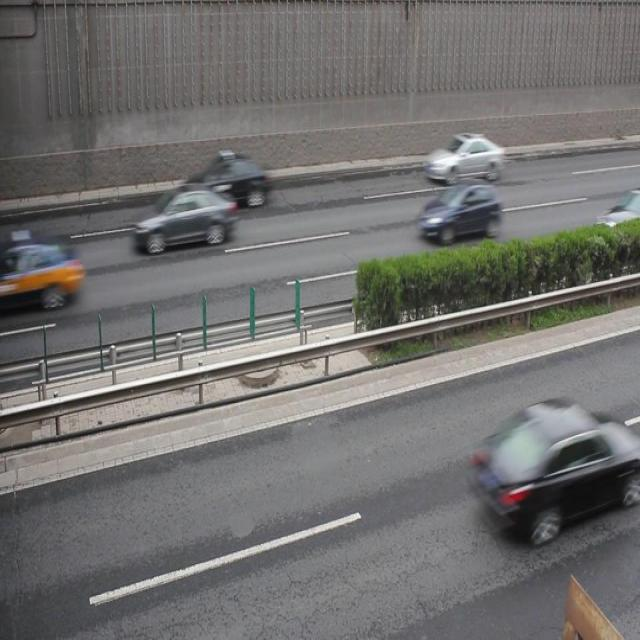car: (468, 395, 624, 542), (131, 182, 236, 254), (1, 238, 84, 311), (416, 176, 500, 241), (182, 153, 272, 210), (422, 129, 504, 184)
